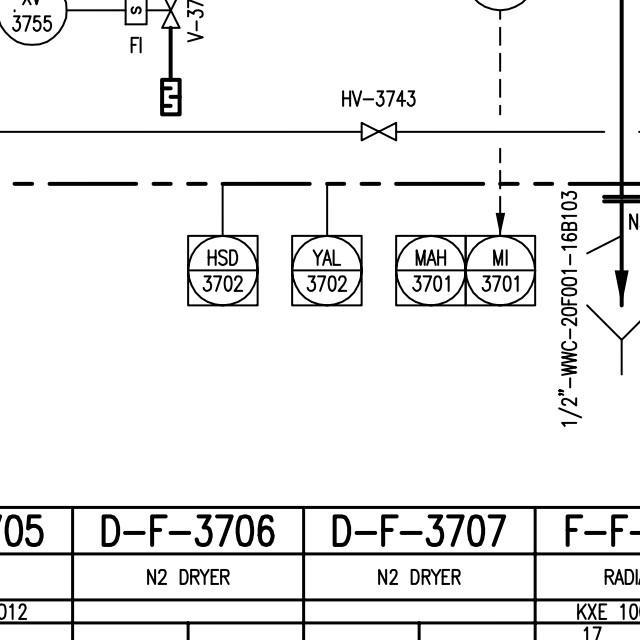GV: (356, 117, 403, 146)
